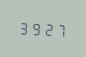nine: (30, 19, 41, 36)
seven: (54, 20, 65, 38)
three: (18, 18, 29, 36)
two: (42, 19, 53, 37)
